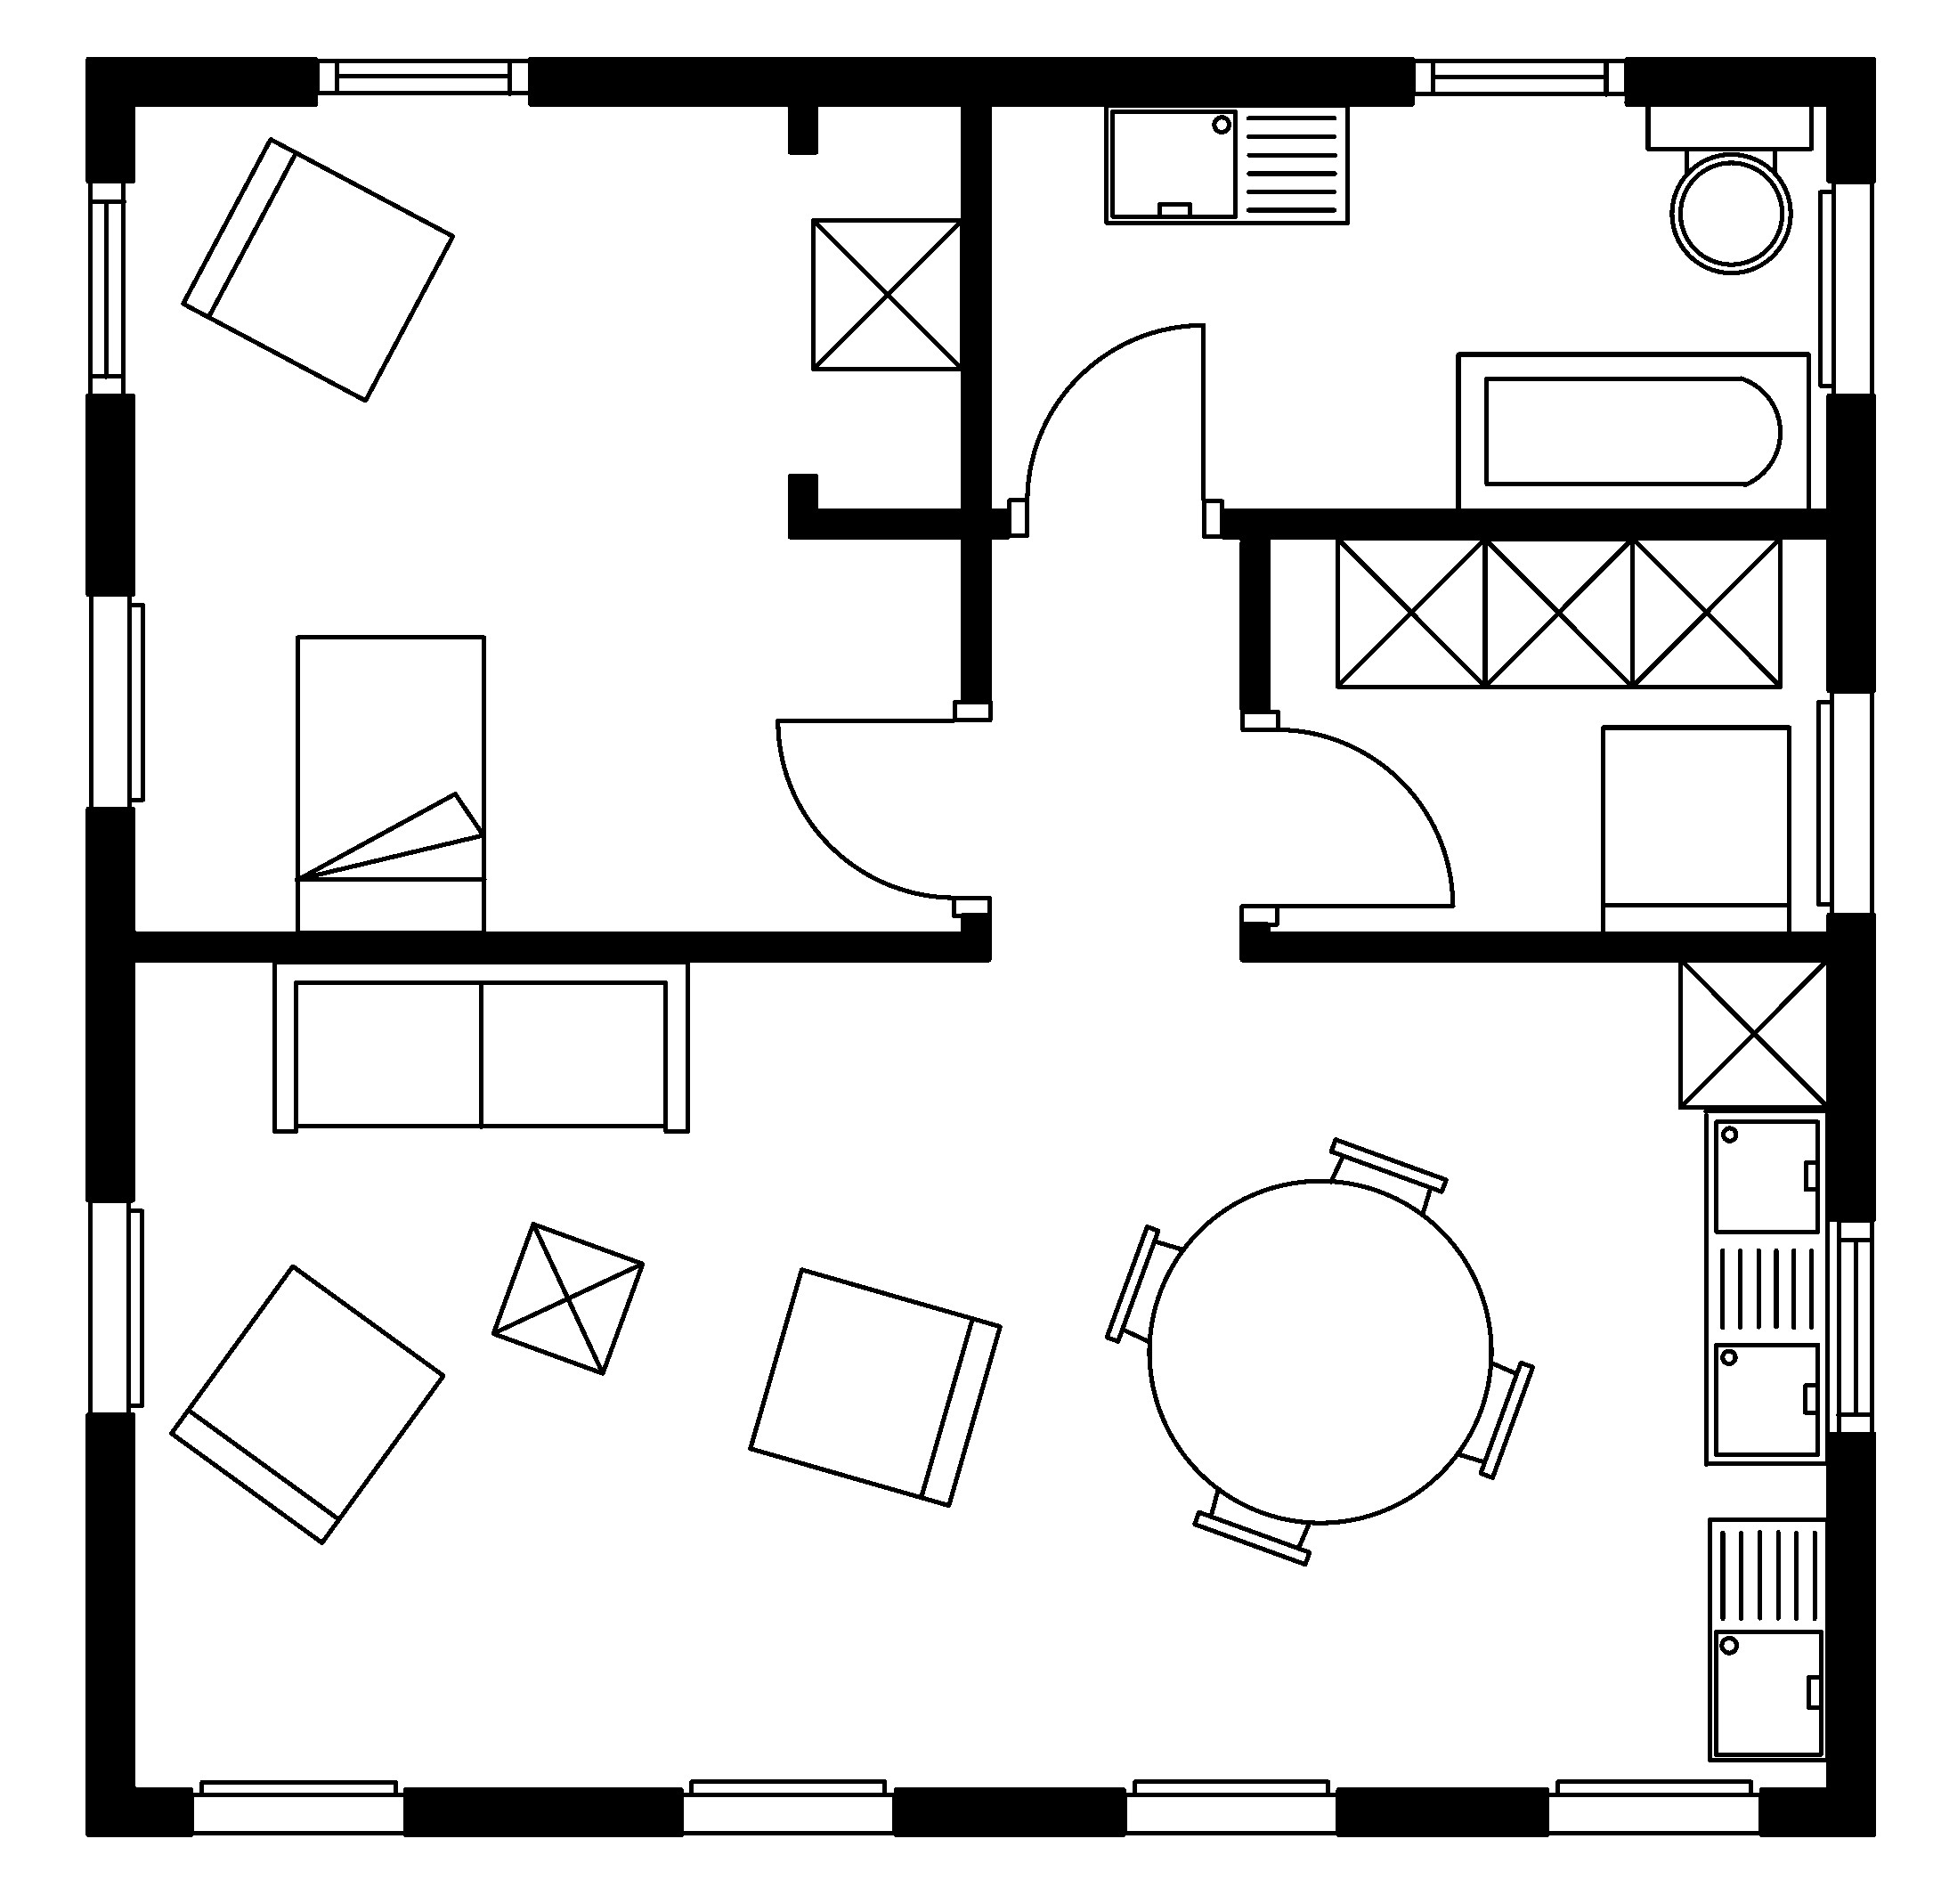bed: (293, 633, 486, 935)
coffee_table: (809, 216, 966, 371), (488, 1221, 645, 1376), (1480, 534, 1635, 689), (1628, 534, 1783, 689), (1333, 534, 1489, 689), (1675, 955, 1830, 1111)
large_sink: (1644, 101, 1814, 274)
large_sofa: (270, 959, 690, 1135)
round_table: (1102, 1135, 1536, 1567)
sink: (1102, 101, 1349, 225), (1706, 1515, 1830, 1763)
small_sofa: (167, 1262, 446, 1547), (180, 136, 455, 403), (746, 1266, 1002, 1508), (1598, 724, 1792, 936)
tub: (1454, 350, 1811, 513)
twin_sink: (1701, 1107, 1830, 1468)
